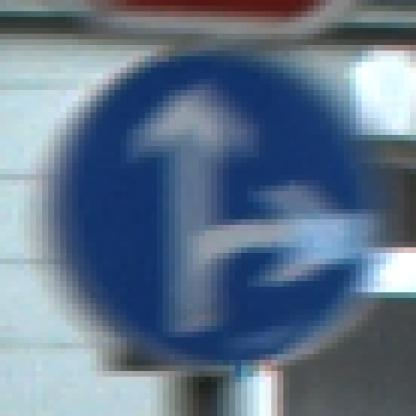Straight or Right: (37, 41, 375, 384)
